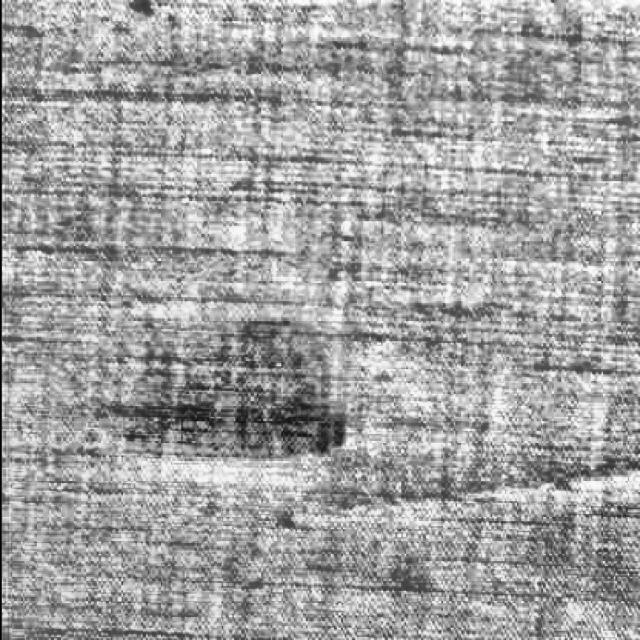oil_spot: (57, 309, 359, 474)
